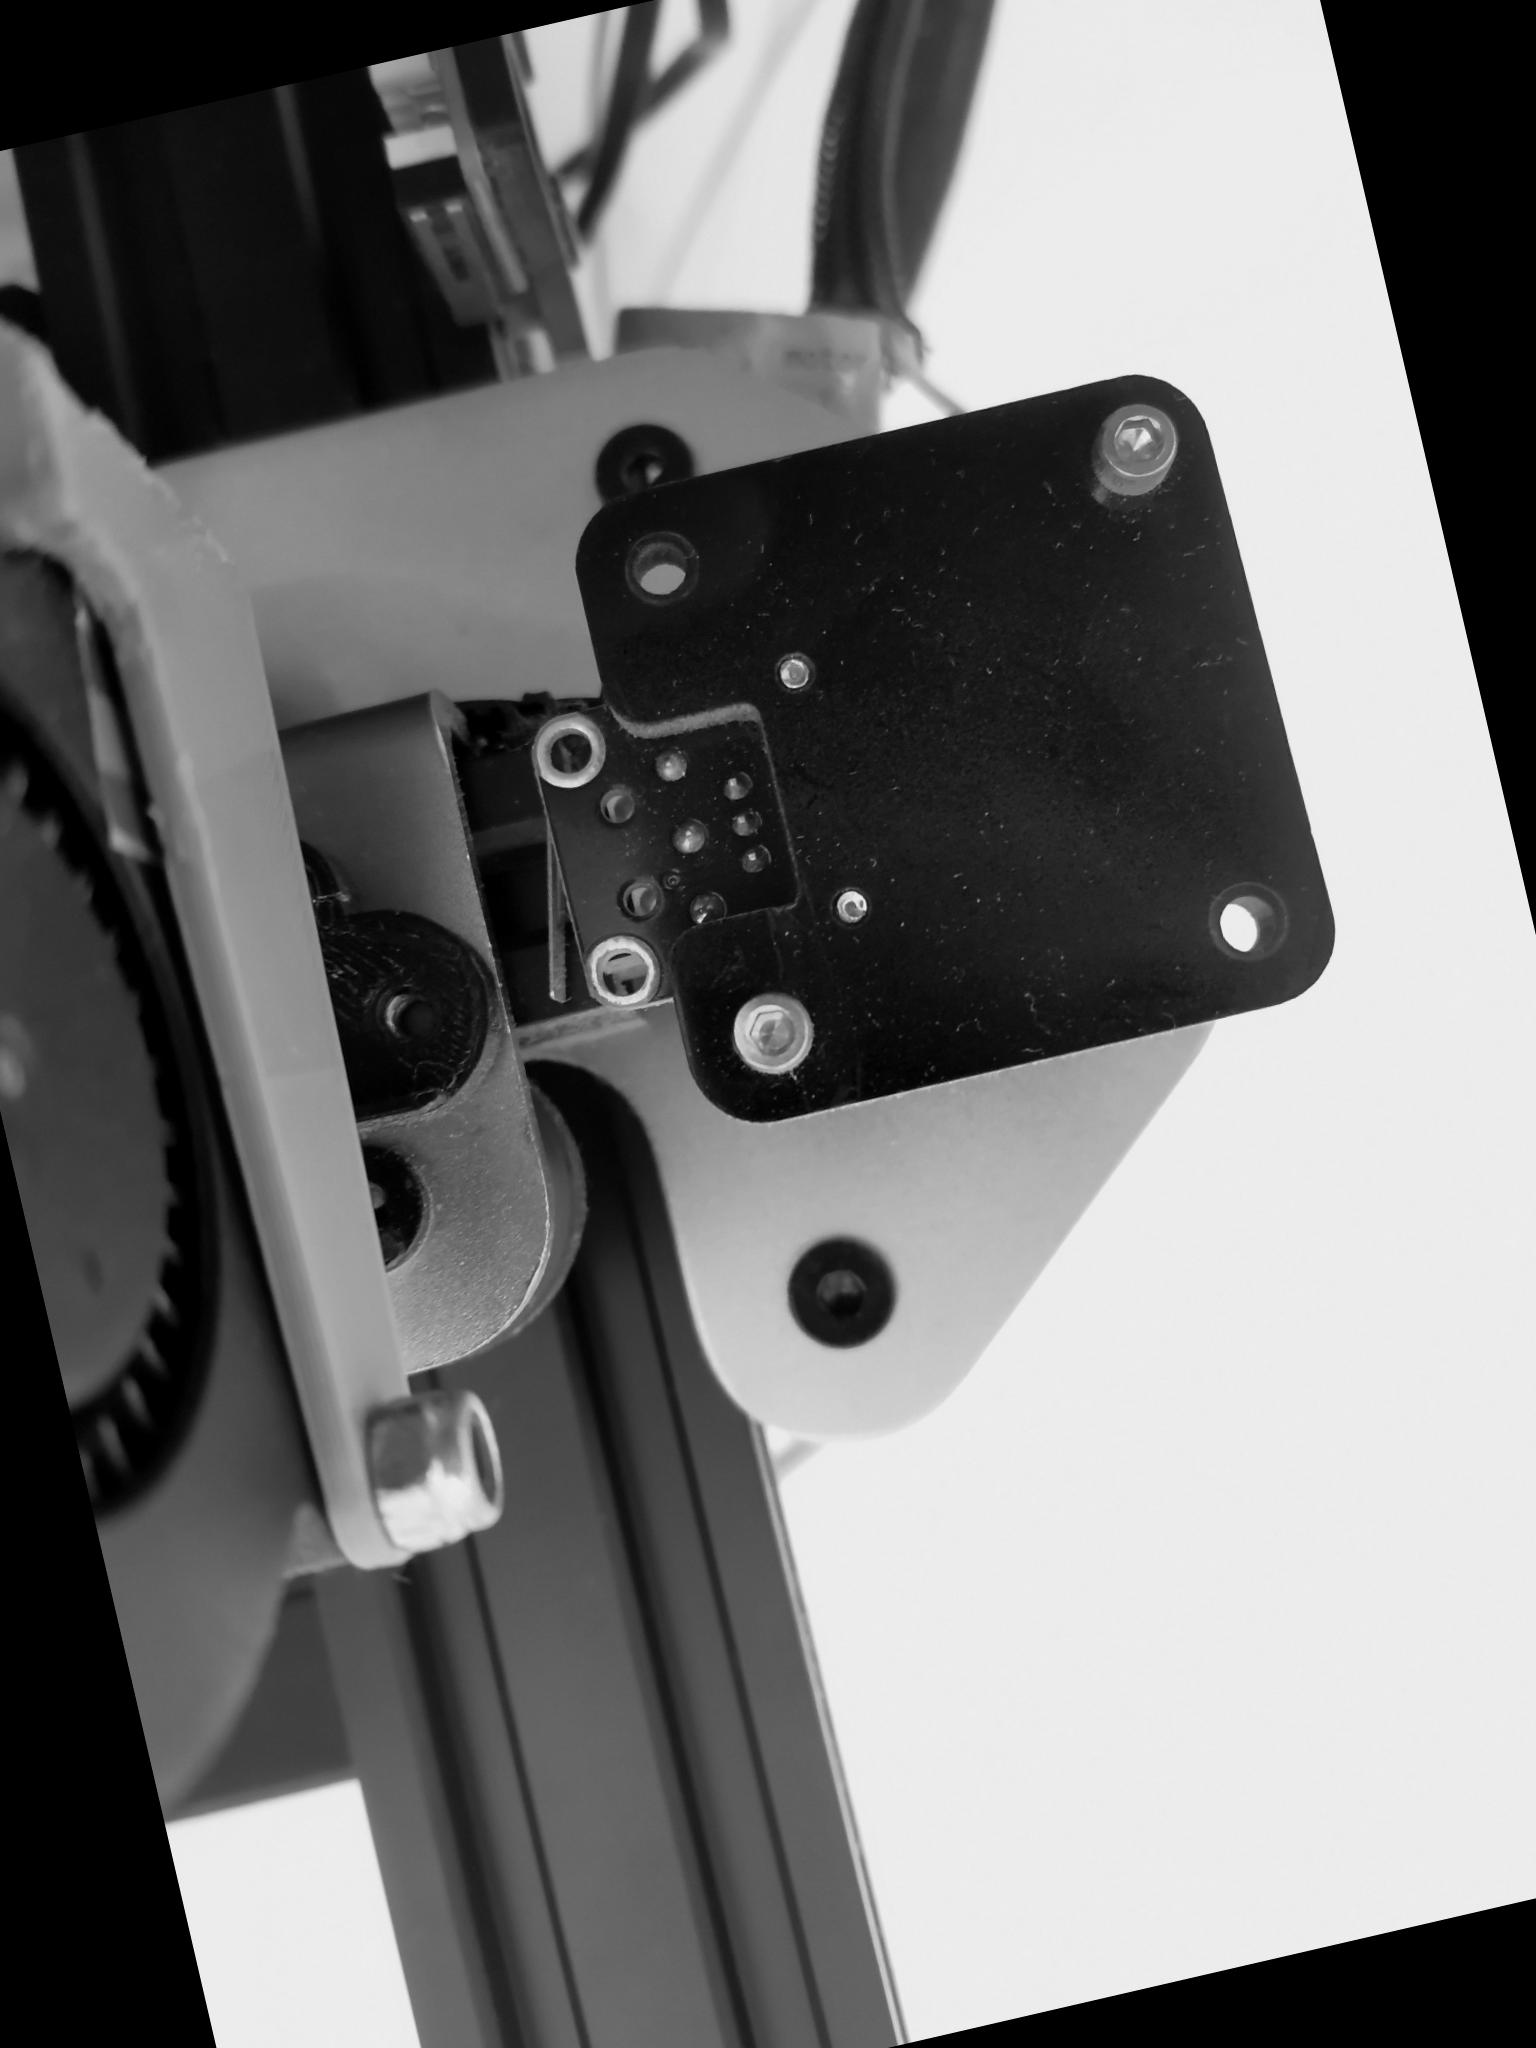allen: (1081, 389, 1191, 498), (720, 982, 824, 1085)
